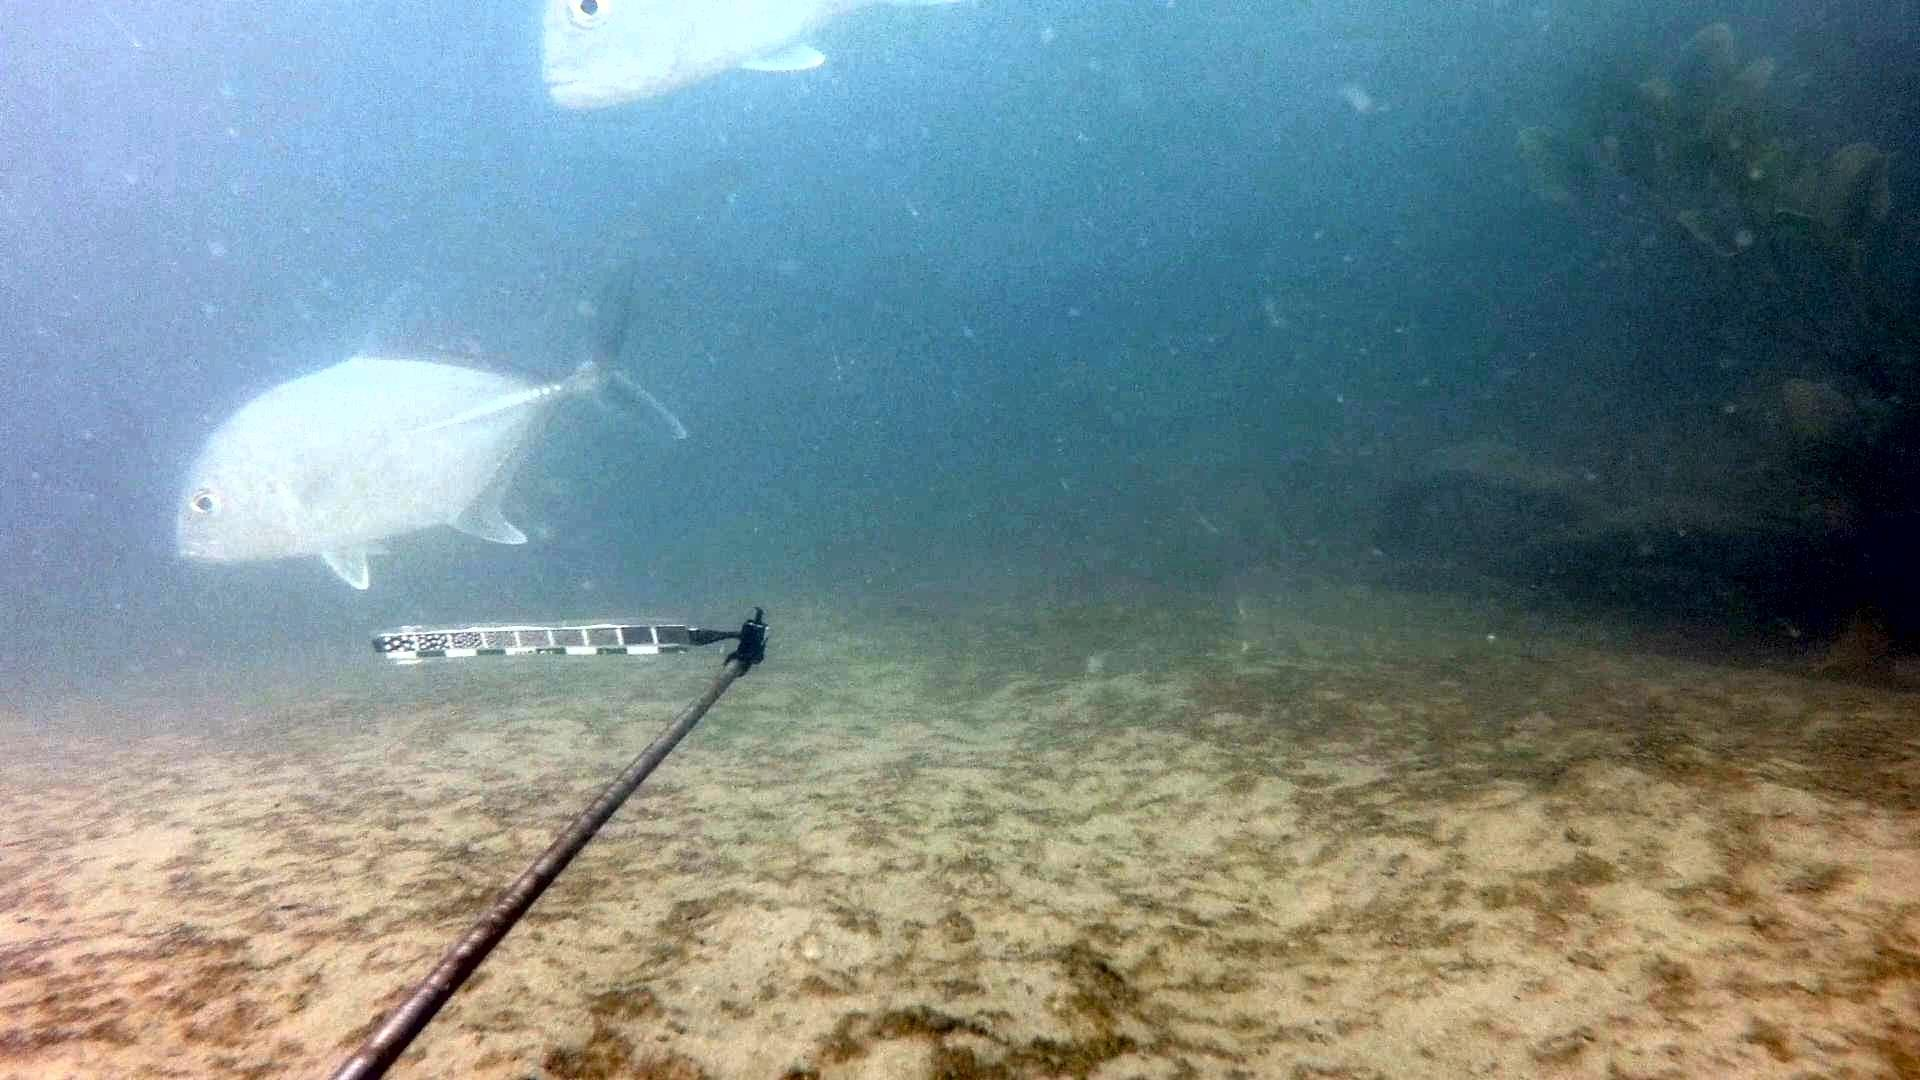caranx: (161, 243, 704, 601), (524, 0, 870, 117)
